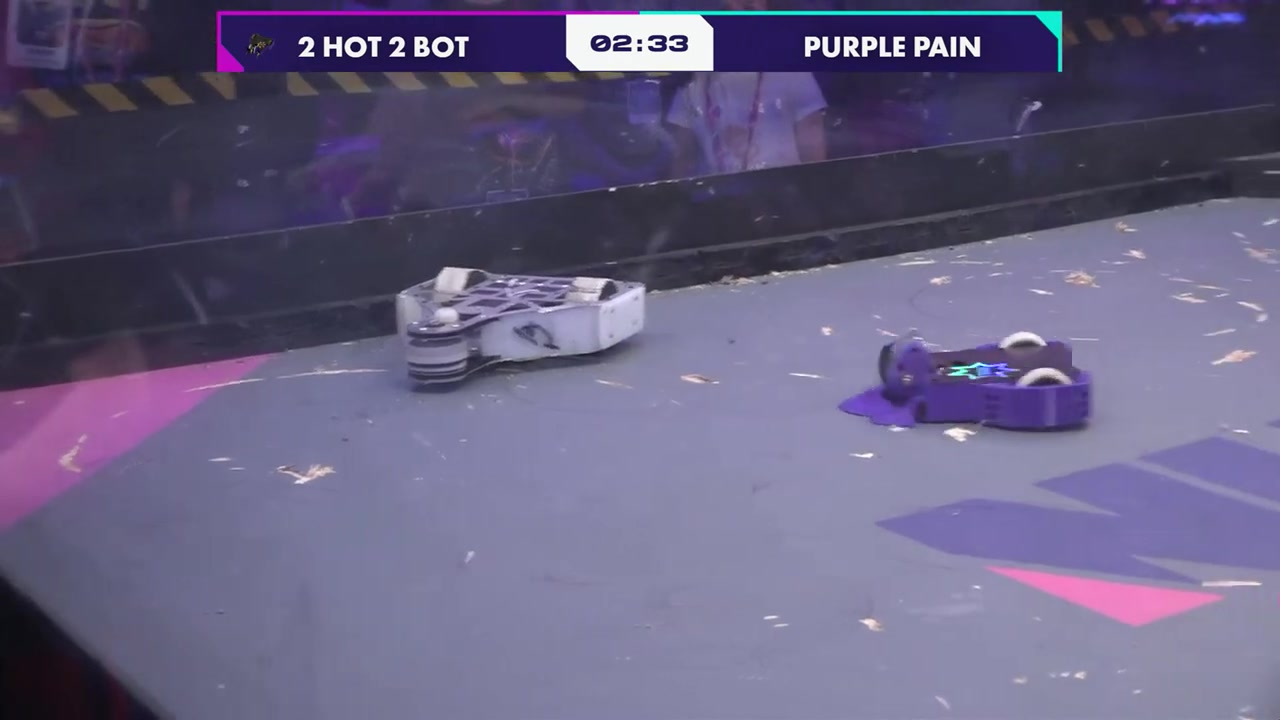combatbot: (394, 267, 649, 390), (878, 331, 1094, 433)
